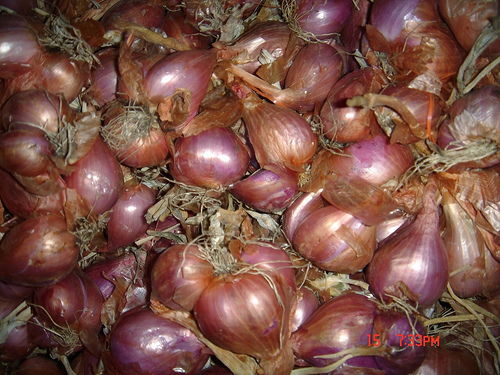onion: (366, 201, 449, 312), (438, 185, 499, 298), (0, 213, 80, 290), (441, 0, 499, 60)
